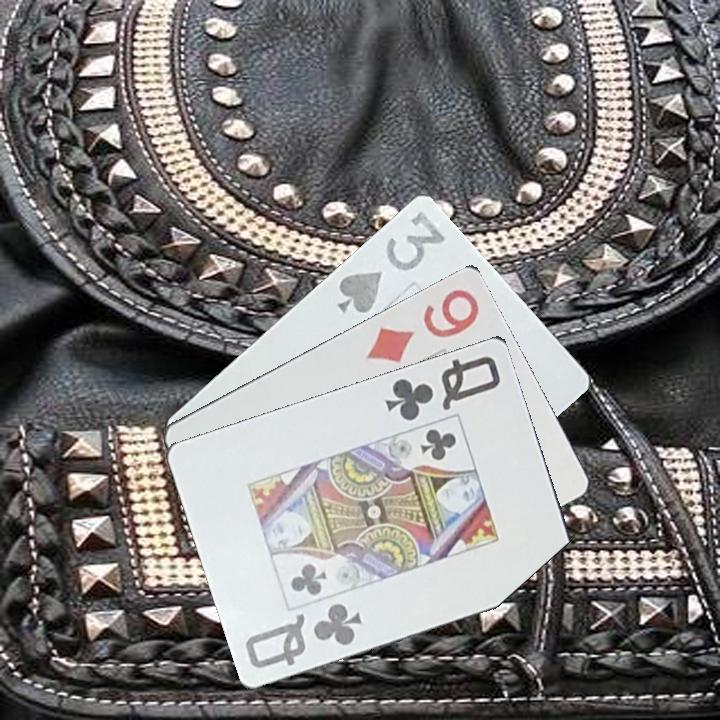3s: (333, 206, 449, 317)
9d: (361, 285, 483, 365)
Qc: (241, 599, 365, 672), (381, 352, 504, 424)
